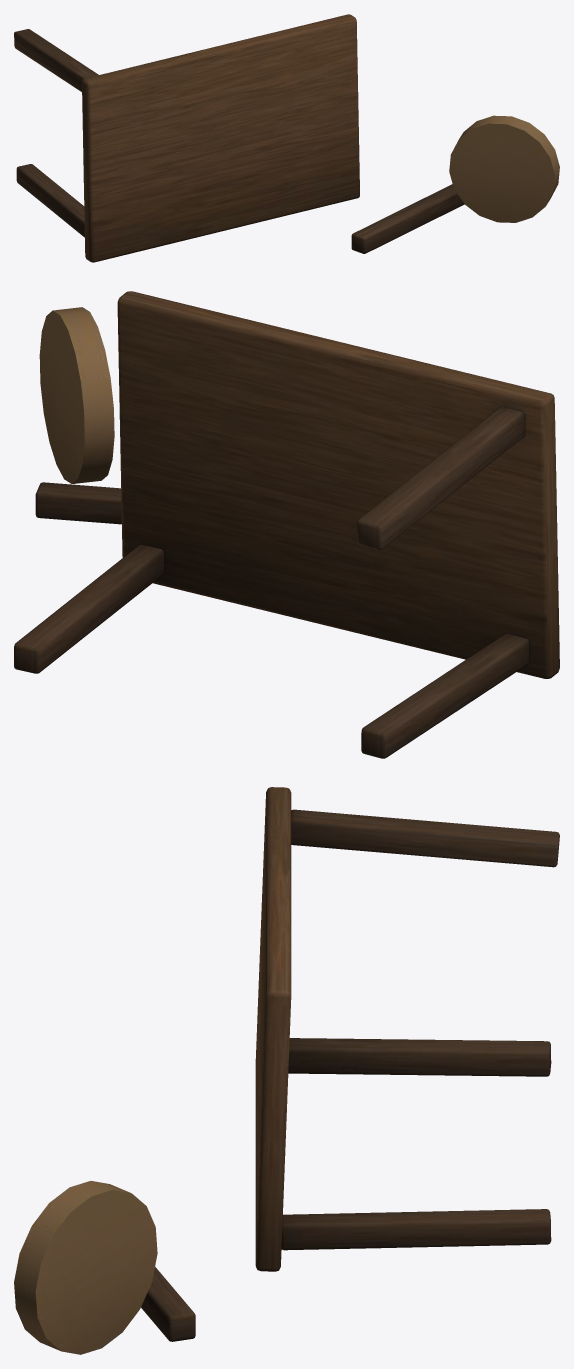
File: home_table_broken.glb
3 views of the same model, one above another, from view 1: azimuth 30°, elevation 25°; view 2: azimuth 150°, elevation 25°; view 3: azimuth 270°, elevation 25° (orthographic). The views are drawn at different scales.
Visible parts, largest first — view 1: home_table_broken; view 2: home_table_broken; view 3: home_table_broken.
Part boxes in pixels (x1,y1,x2,y2): home_table_broken: (14, 14, 559, 262); home_table_broken: (14, 291, 559, 758); home_table_broken: (14, 787, 559, 1354).
Size of the model in its own units: 2.01 by 0.8727 by 1.51.
1 material, 1 textured.
